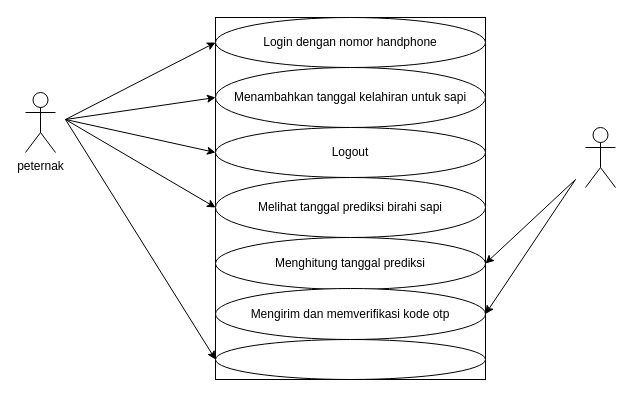
Image size: 635x397. Some labels were removed from this diagram. The shapes that lost their labels are listed below. From the top down, each one's centre as x and y in pixels, then its label:
At [600,157]: "sistem".
At [350,359]: "Menerima dan menginput kode otp".
